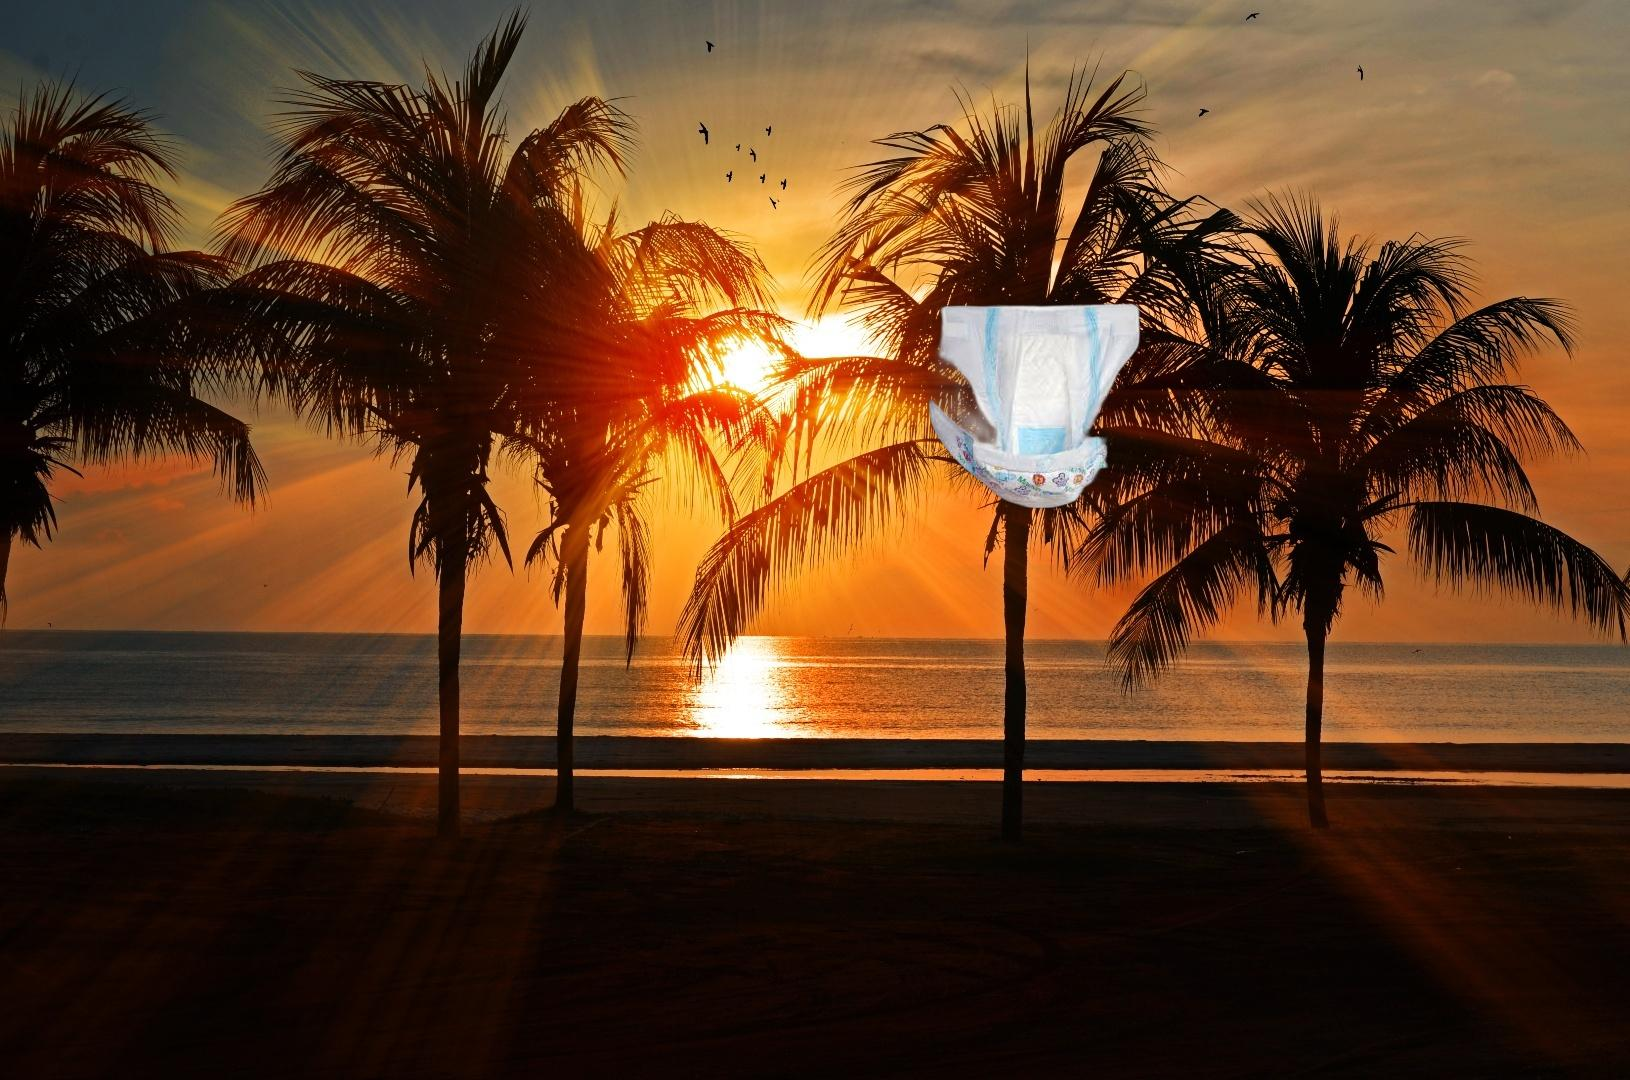trash: (924, 300, 1159, 511)
